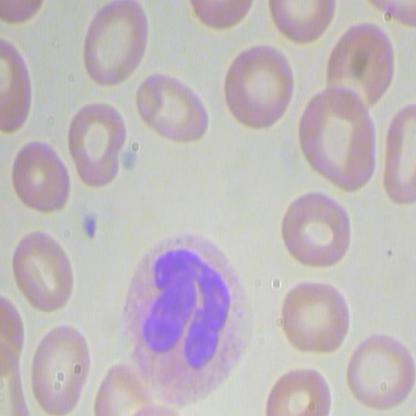Platelets: (75, 212, 100, 242)
RBC: (296, 88, 379, 195), (221, 43, 300, 131), (278, 185, 356, 274), (276, 272, 354, 361), (132, 61, 211, 148), (57, 98, 135, 185), (73, 1, 151, 88), (344, 330, 415, 415), (26, 320, 89, 415), (12, 226, 77, 315), (10, 132, 70, 218)
WBC: (118, 220, 260, 406)
